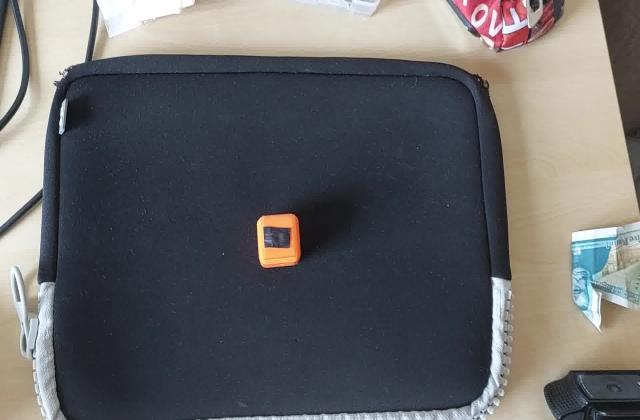sticker: (254, 212, 304, 271)
